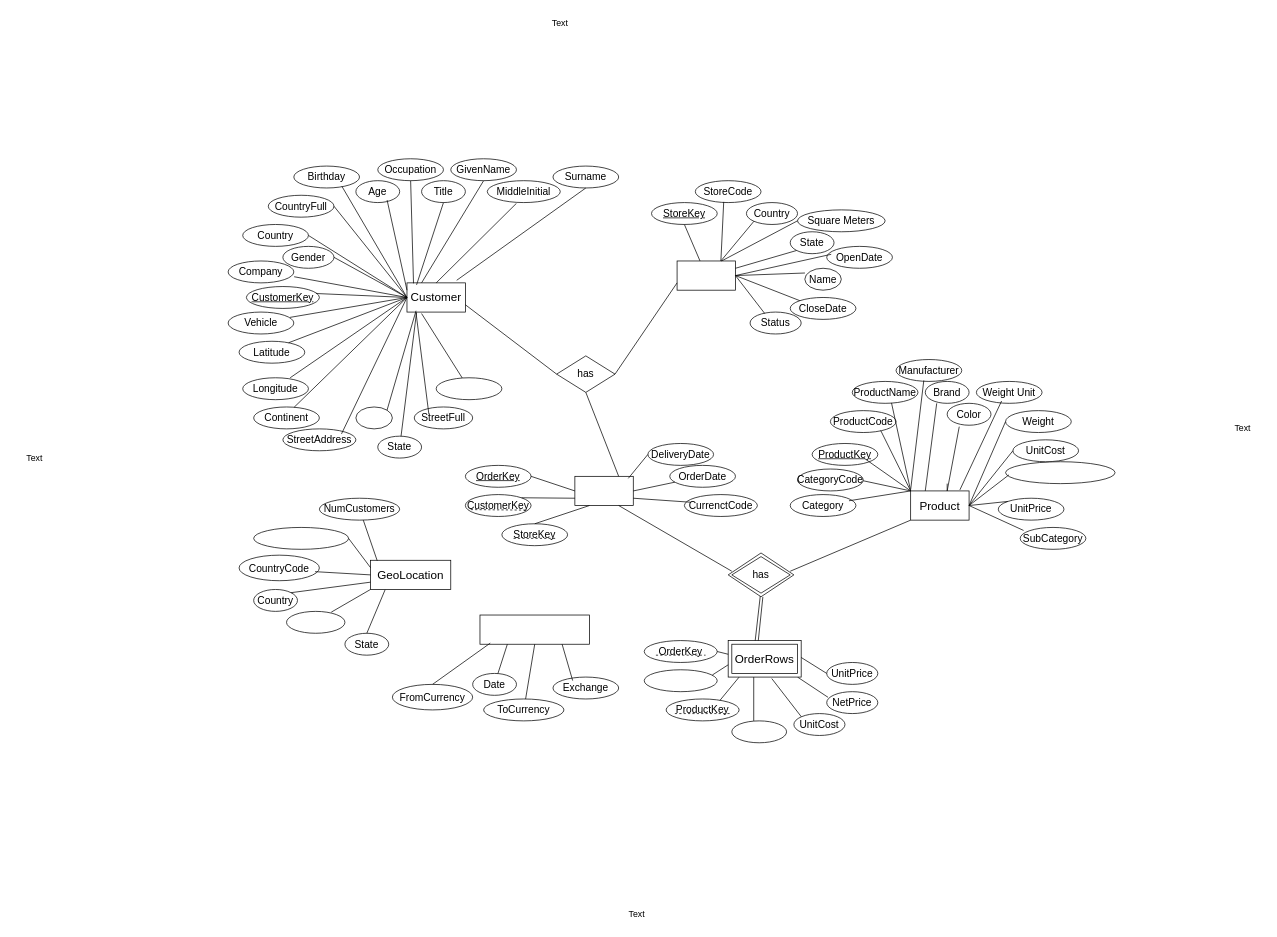
Image size: 1277x937. Some labels were removed from this diagram. The box of each missing label's shape, as (x1, y1, x2, y2) in pixels:
City: (355, 406, 392, 429)
CurrencyExchange: (479, 614, 589, 644)
GeoLocationKey: (253, 527, 349, 549)
LineNumber: (643, 669, 717, 692)
Orders: (574, 476, 633, 506)
Quantity: (731, 720, 787, 743)
StateCode: (286, 611, 345, 633)
Store: (676, 260, 735, 290)
SubCategoryCode: (1005, 461, 1115, 484)
ZipCode: (435, 377, 502, 400)
